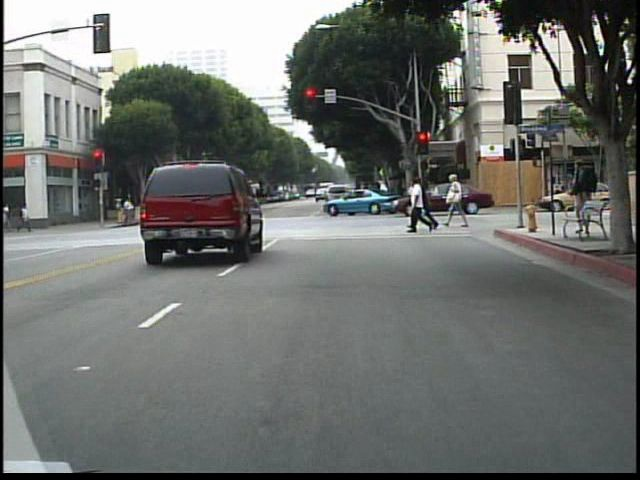person: (443, 173, 471, 229), (567, 155, 598, 205), (408, 177, 433, 233), (411, 177, 428, 231), (252, 181, 270, 230), (376, 177, 397, 215), (143, 191, 159, 232), (120, 194, 136, 230), (357, 180, 373, 215), (20, 202, 36, 237), (403, 179, 418, 215), (2, 200, 15, 235)
